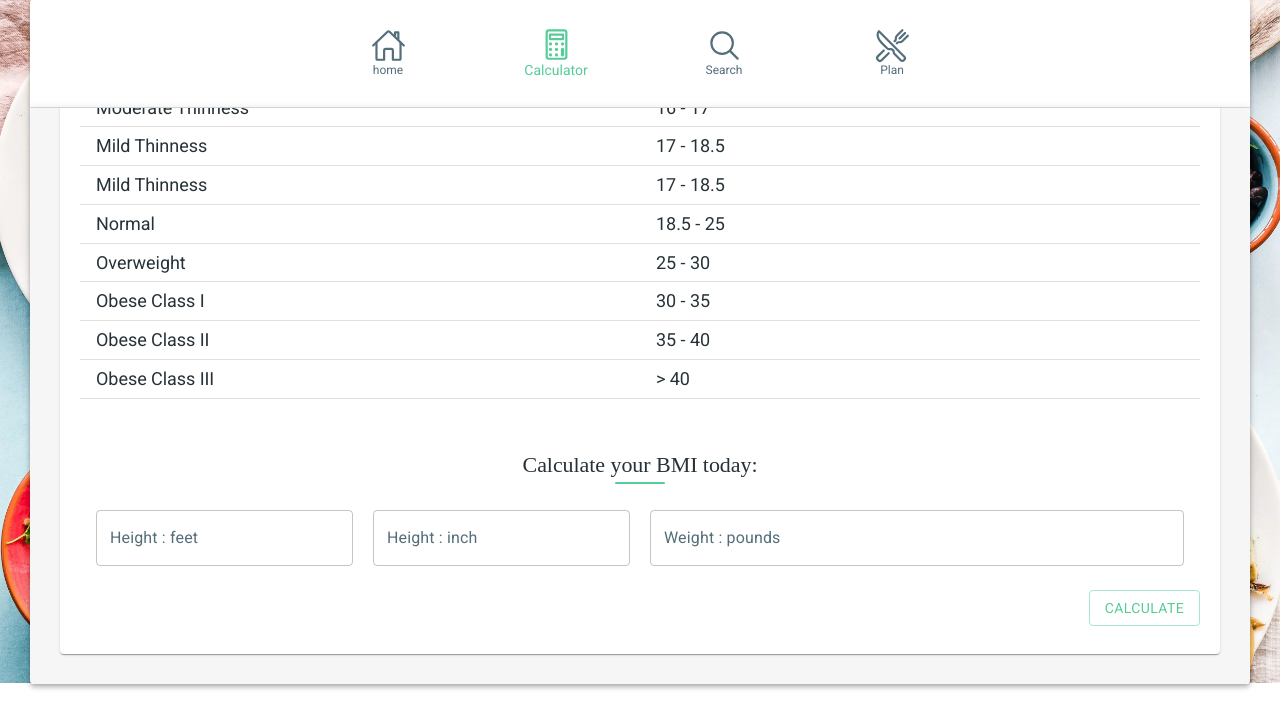
Scenario: Calculator Page › BMI Calculator Form
(page scrolled)
// Test input height Feet
In the number field named "heightFeet" next to "Height : feet": x=225, y=538 [96,510,353,566], type "6"
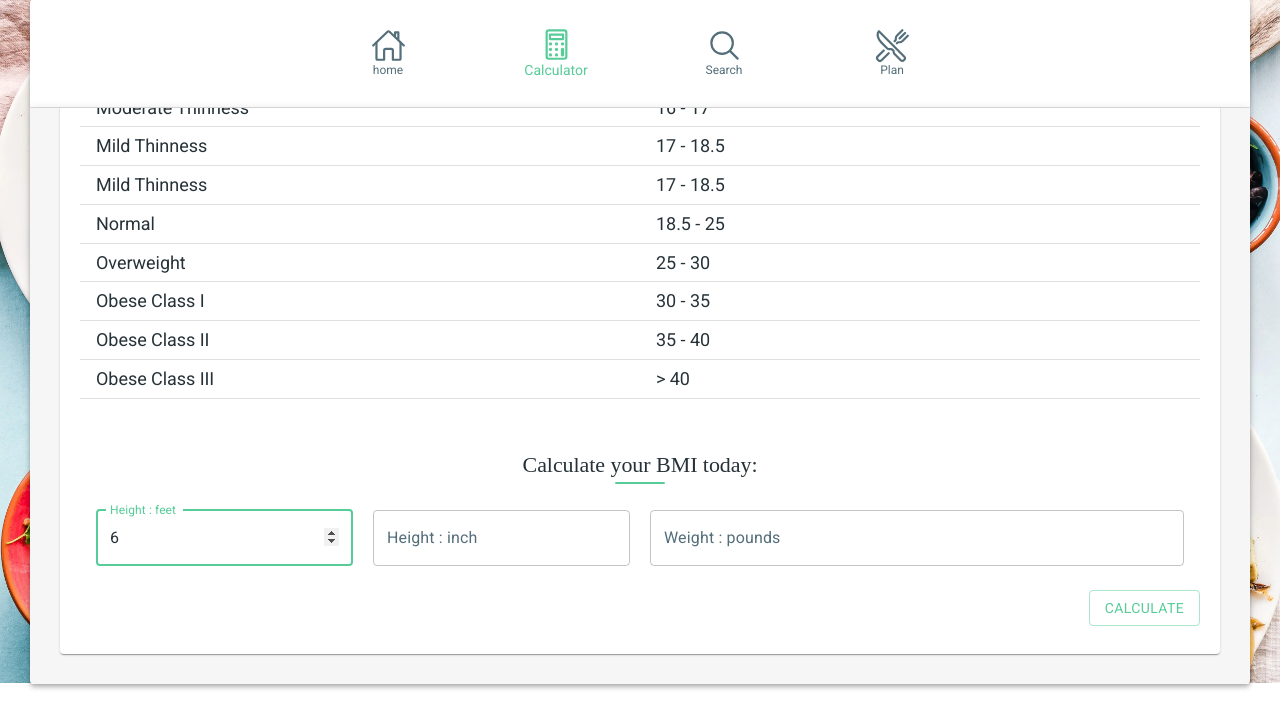
Click the button "Calculate": x=1145, y=609 [1089,590,1200,627]
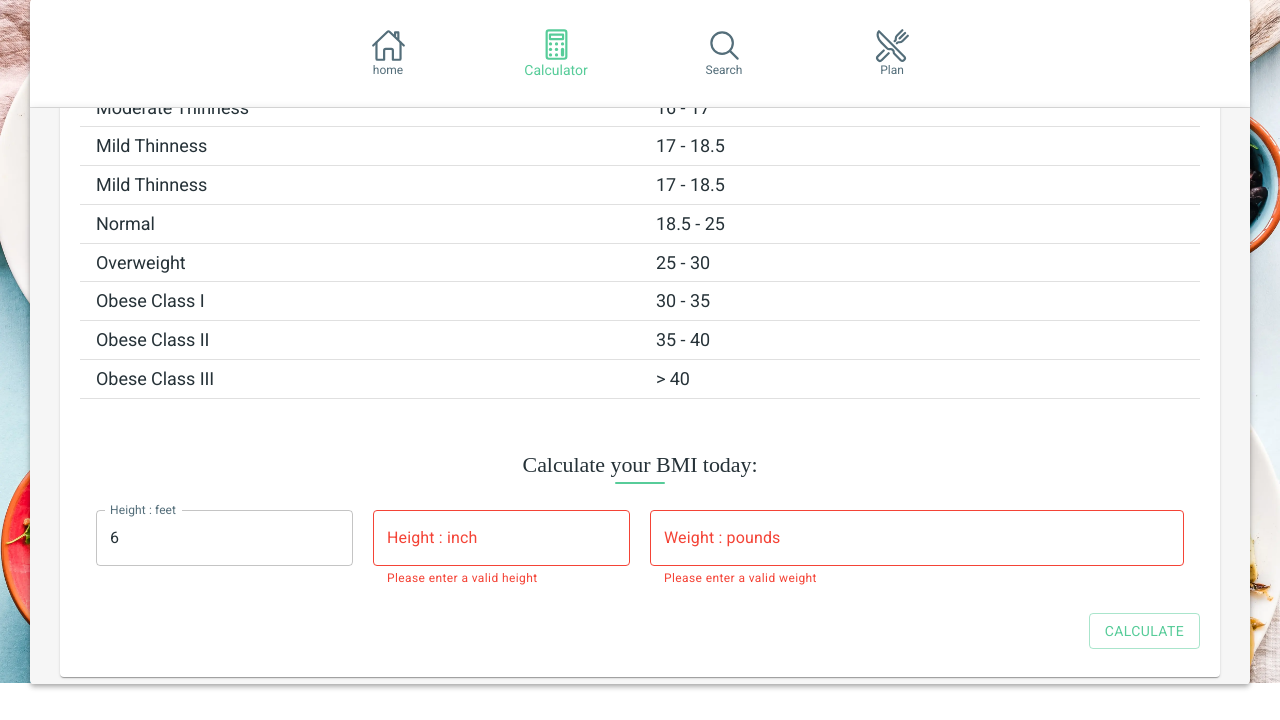
expect the text "valid height" is shown once: met, box [387,571,538,585]
// Test input height inch
In the number field named "heightInch" next to "Height : inch": x=502, y=538 [373,510,630,566], type "1"
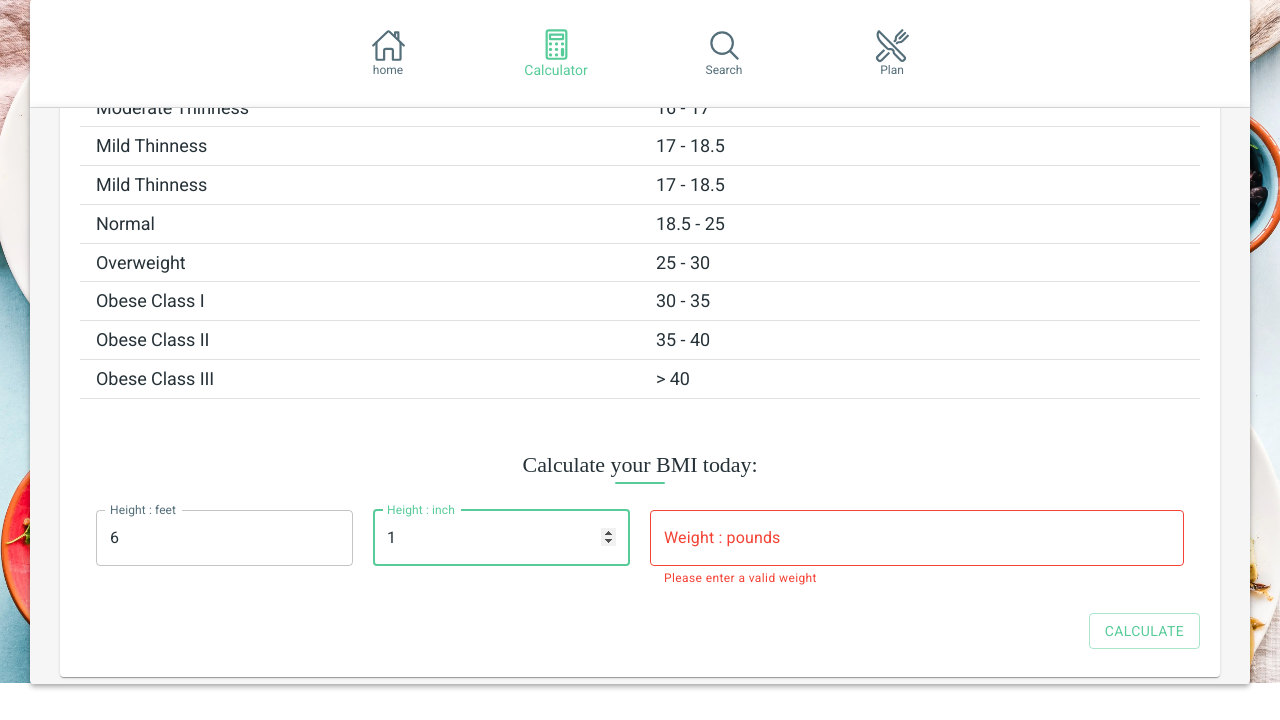
Click the button "Calculate": x=1145, y=632 [1089,613,1200,650]
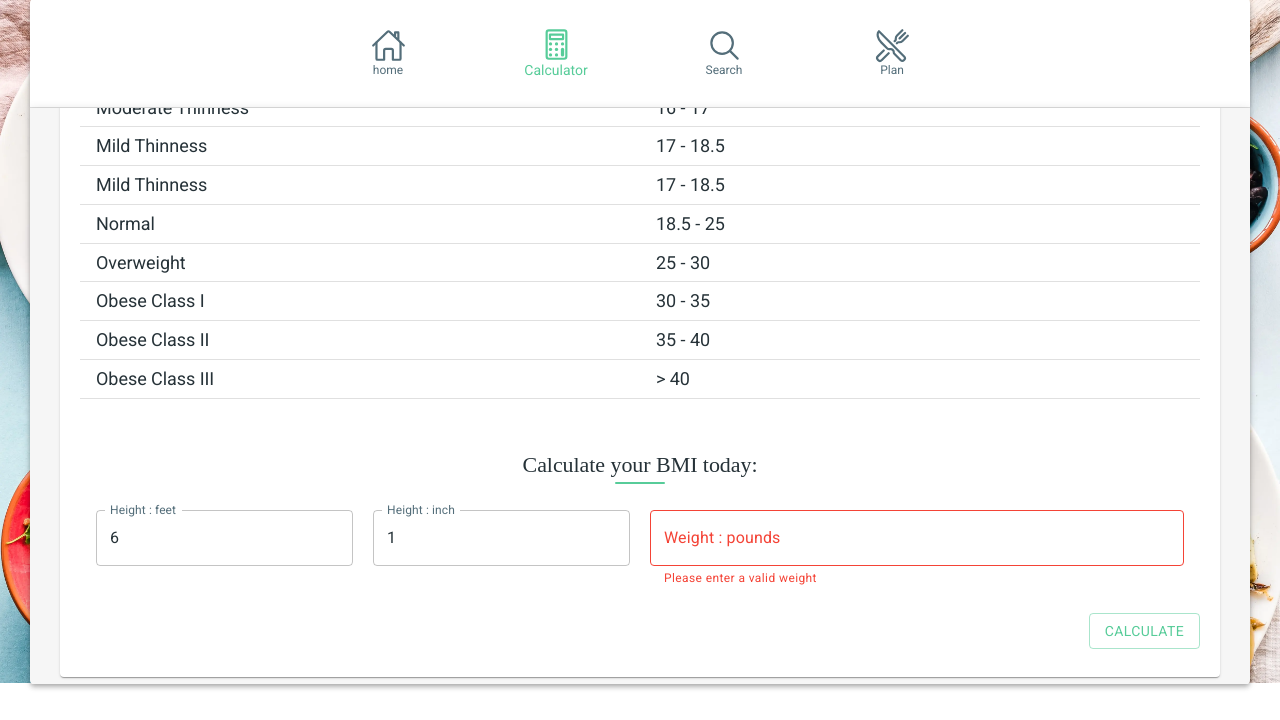
expect the text "valid weight" is shown once: met, box [664,571,817,585]
// Test input weight
In the number field named "weight" next to "Weight : pounds": x=917, y=538 [650,510,1184,566], type "150"
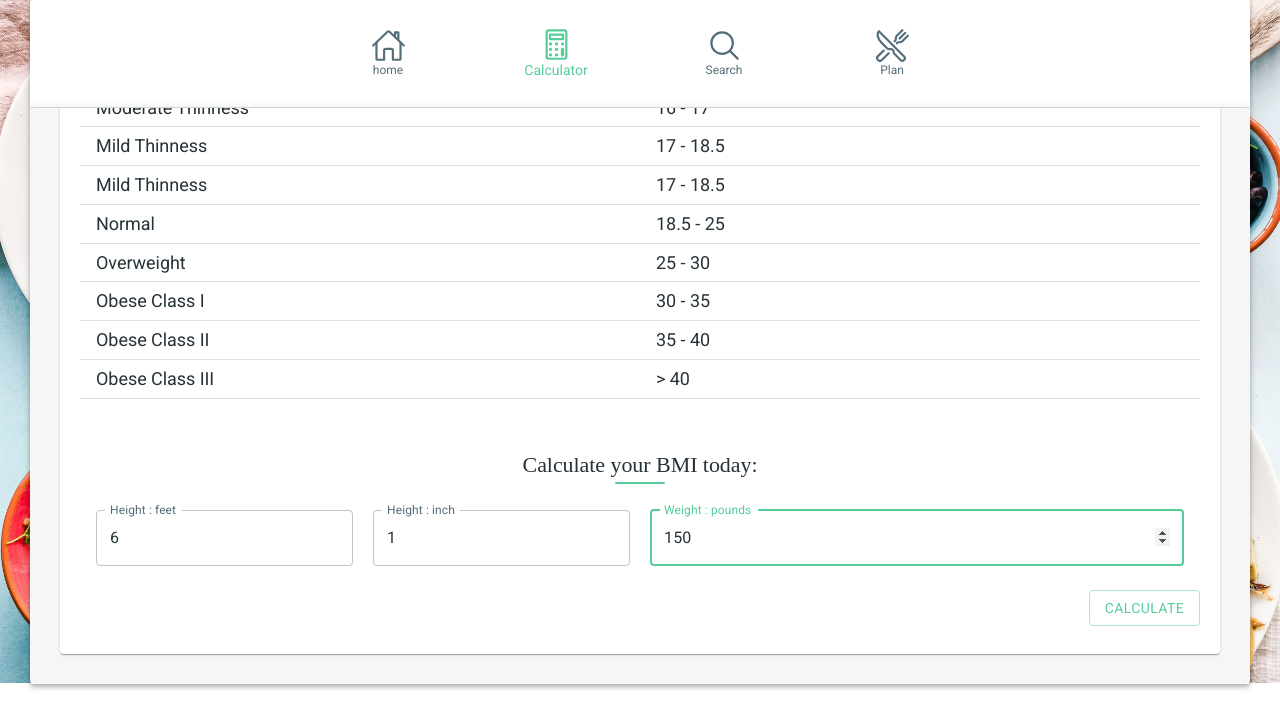
Click the button "Calculate": x=1145, y=609 [1089,590,1200,627]
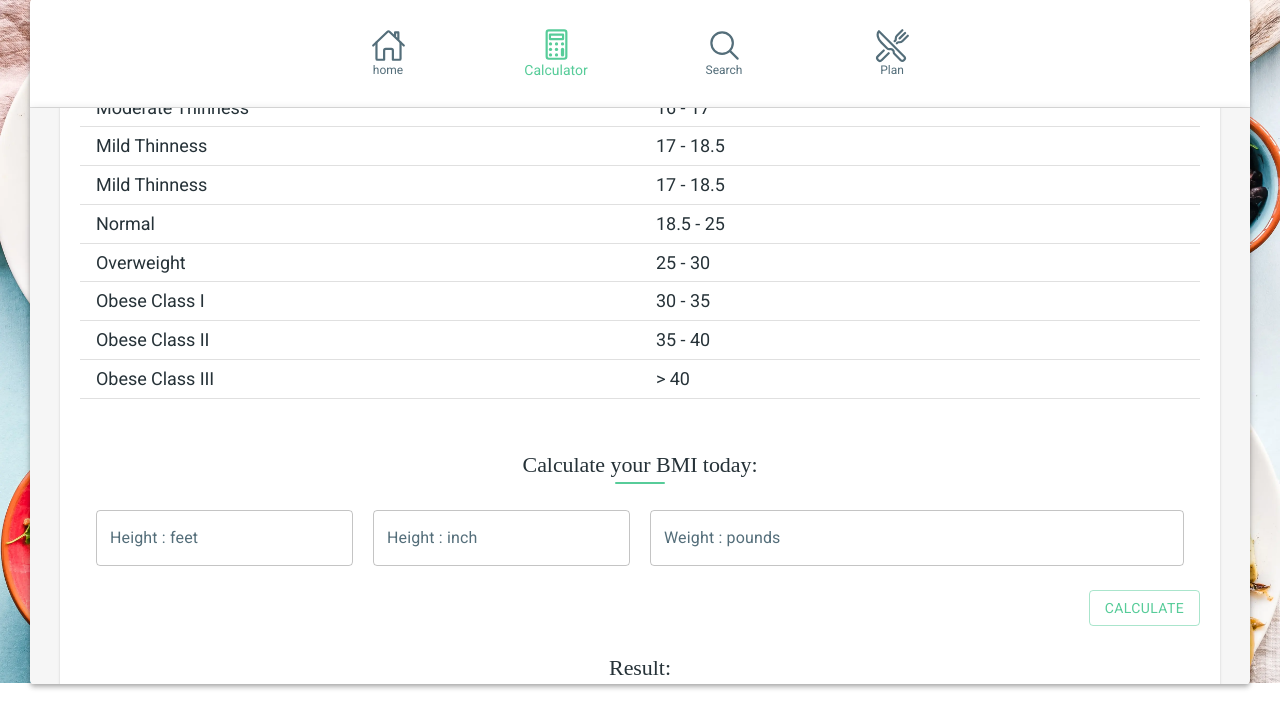
expect the number of headings "Result:" is 1: met, box [609,655,671,680]
